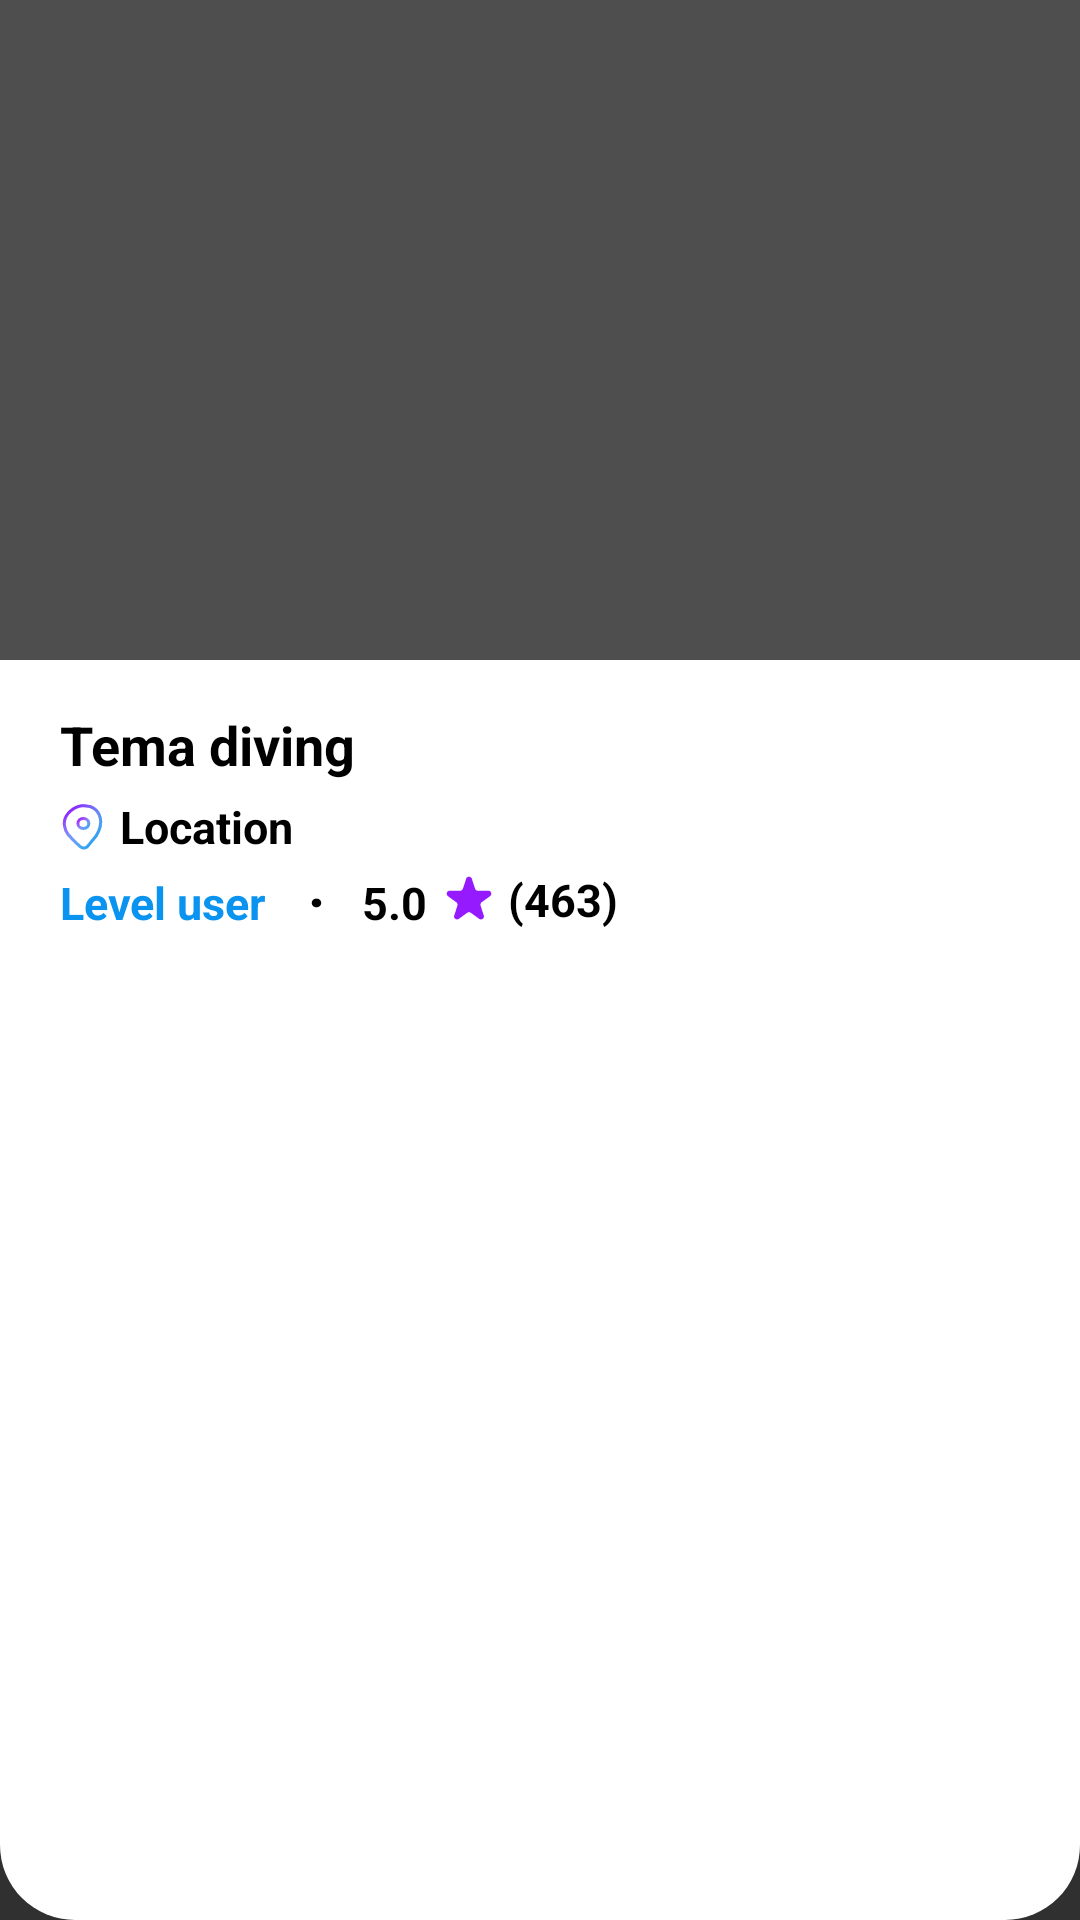

Icon bounding boxes for this 1080 x 1920 phone screenshot, format (x1, y1, x2, y2):
ocenka: (446, 876, 492, 920)
